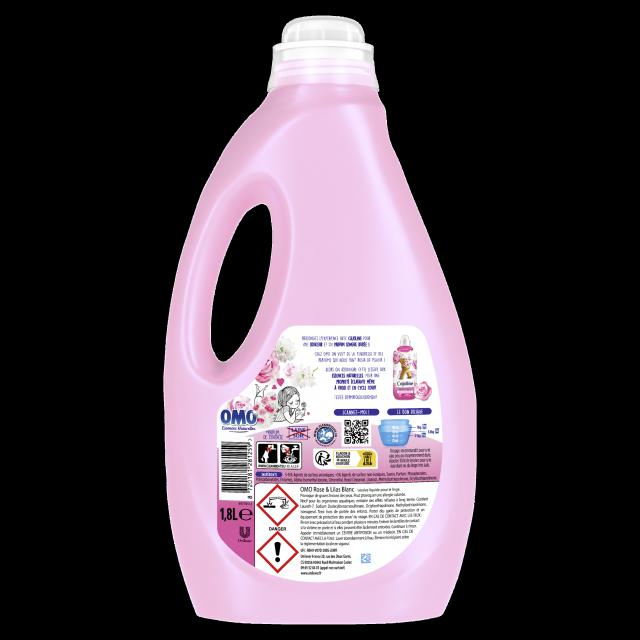GHS_Symbol_CORROSION: (257, 484, 298, 526)
GHS_Symbol_EXCLAMATION_MARK: (258, 531, 298, 573)
